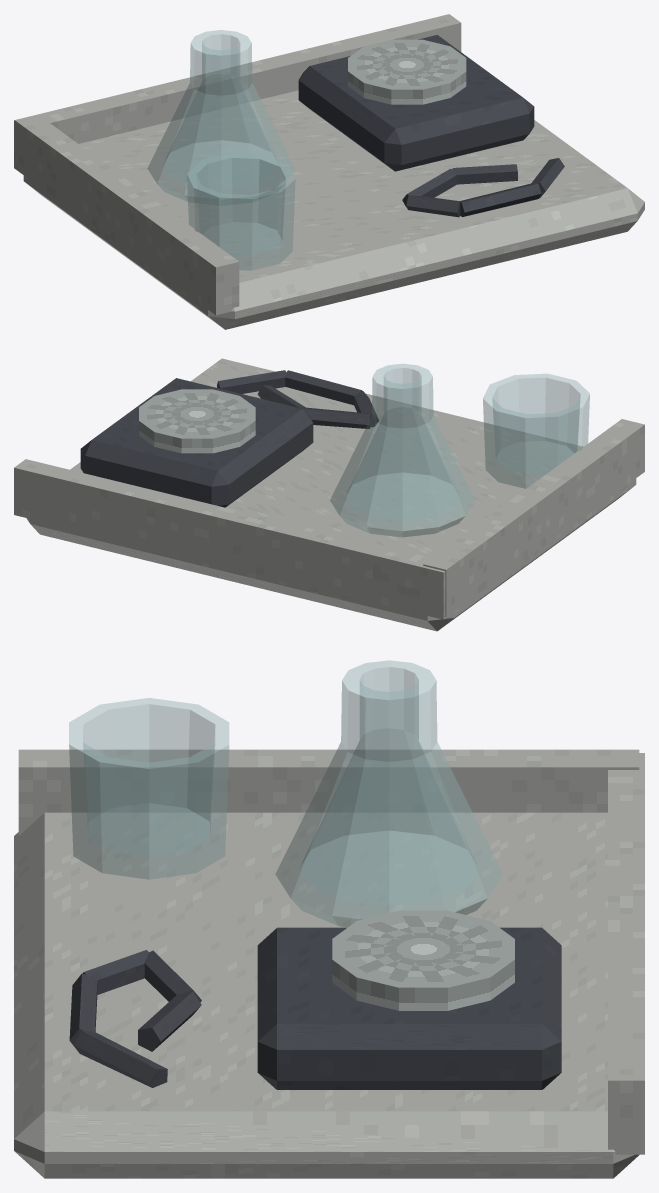
File: chemistry_set.glb
3 renders of one model, top to bottom at view 1: azimuth 30°, elevation 25°; view 2: azimuth 150°, elevation 25°; view 3: azimuth 270°, elevation 25°, orthographic. The views are drawn at different scales.
Parts seen in each view (by area): view 1: block_supply tray, block_tray side, block_small conical flask, block_portable hot plate, block_tray front, block_glass measuring cup, block_burner, block_coiled tubing 1, block_coiled tubing 4, block_coiled tubing 2, block_coiled tubing 3, block_coiled tubing 0; view 2: block_supply tray, block_tray front, block_small conical flask, block_tray side, block_portable hot plate, block_glass measuring cup, block_burner, block_coiled tubing 1, block_coiled tubing 3, block_coiled tubing 0, block_coiled tubing 4, block_coiled tubing 2; view 3: block_supply tray, block_tray side, block_small conical flask, block_portable hot plate, block_glass measuring cup, block_burner, block_tray front, block_coiled tubing 0, block_coiled tubing 4, block_coiled tubing 1, block_coiled tubing 2, block_coiled tubing 3.
Part boxes in pixels (bbox=[...]): block_supply tray: bbox=[23, 90, 644, 329]; block_tray side: bbox=[14, 114, 239, 315]; block_small conical flask: bbox=[147, 30, 294, 202]; block_portable hot plate: bbox=[298, 35, 534, 171]; block_tray front: bbox=[14, 14, 461, 174]; block_glass measuring cup: bbox=[187, 154, 295, 270]; block_burner: bbox=[348, 39, 466, 104]; block_coiled tubing 1: bbox=[459, 183, 541, 216]; block_coiled tubing 4: bbox=[452, 164, 517, 184]; block_coiled tubing 2: bbox=[406, 195, 460, 217]; block_coiled tubing 3: bbox=[402, 168, 456, 207]; block_coiled tubing 0: bbox=[531, 158, 564, 198]; block_supply tray: bbox=[26, 358, 636, 631]; block_tray front: bbox=[14, 459, 453, 619]; block_small conical flask: bbox=[330, 363, 475, 537]; block_tray side: bbox=[423, 419, 644, 616]; block_portable hot plate: bbox=[80, 378, 313, 507]; block_glass measuring cup: bbox=[483, 373, 589, 488]; block_burner: bbox=[139, 389, 255, 453]; block_coiled tubing 1: bbox=[285, 370, 362, 405]; block_coiled tubing 3: bbox=[302, 407, 370, 428]; block_coiled tubing 0: bbox=[217, 370, 286, 393]; block_coiled tubing 4: bbox=[257, 385, 305, 408]; block_coiled tubing 2: bbox=[354, 391, 378, 427]; block_supply tray: bbox=[14, 812, 639, 1178]; block_tray side: bbox=[18, 749, 639, 835]; block_small conical flask: bbox=[275, 660, 502, 927]; block_portable hot plate: bbox=[257, 927, 561, 1089]; block_glass measuring cup: bbox=[69, 698, 229, 879]; block_burner: bbox=[332, 910, 514, 1010]; block_tray front: bbox=[608, 753, 644, 1154]; block_coiled tubing 0: bbox=[74, 1030, 167, 1087]; block_coiled tubing 4: bbox=[138, 991, 201, 1051]; block_coiled tubing 1: bbox=[69, 973, 97, 1050]; block_coiled tubing 2: bbox=[82, 950, 148, 994]; block_coiled tubing 3: bbox=[144, 950, 201, 1002].
Bounding box in the file's own units: 0.3104 × 0.1218 × 0.2513.
Materials: 2 (2 with a texture image).
